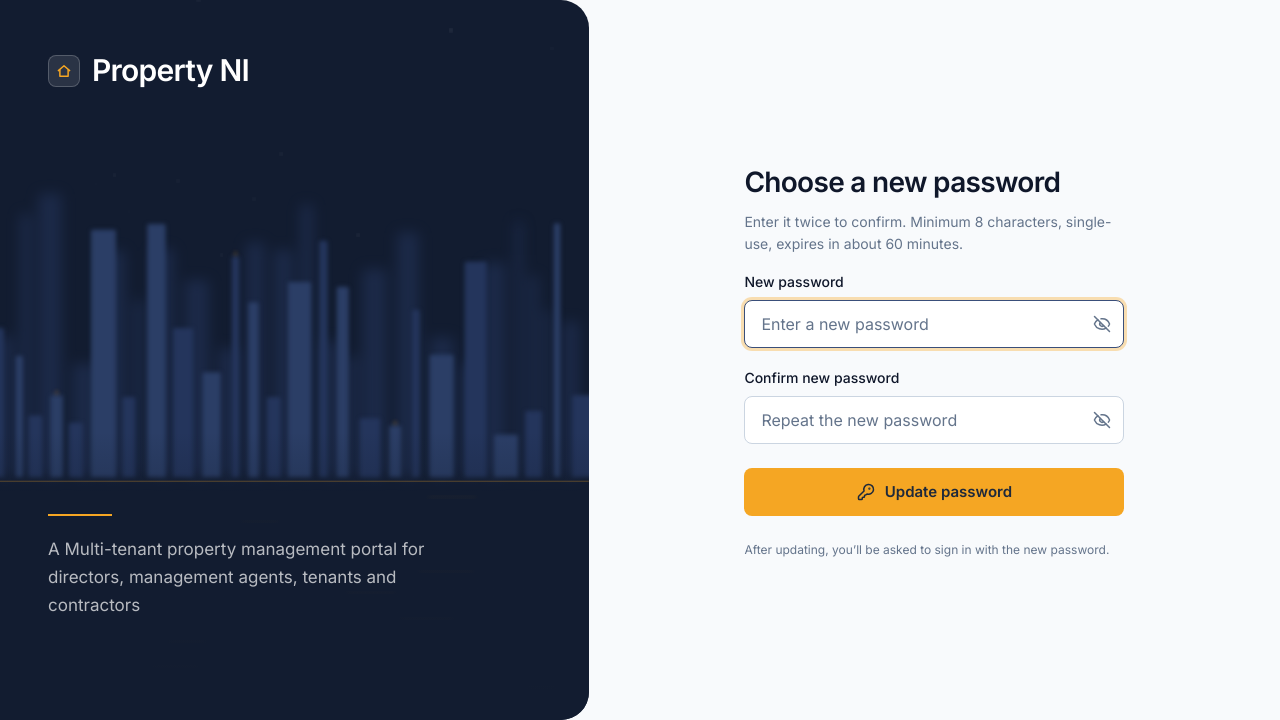
Test: /auth/reset-password page › short password (<8) blocks submit client-side with the length hint
In the password field labelled "New password": (934, 324) left=744, top=300, right=1124, bottom=348, type "short"
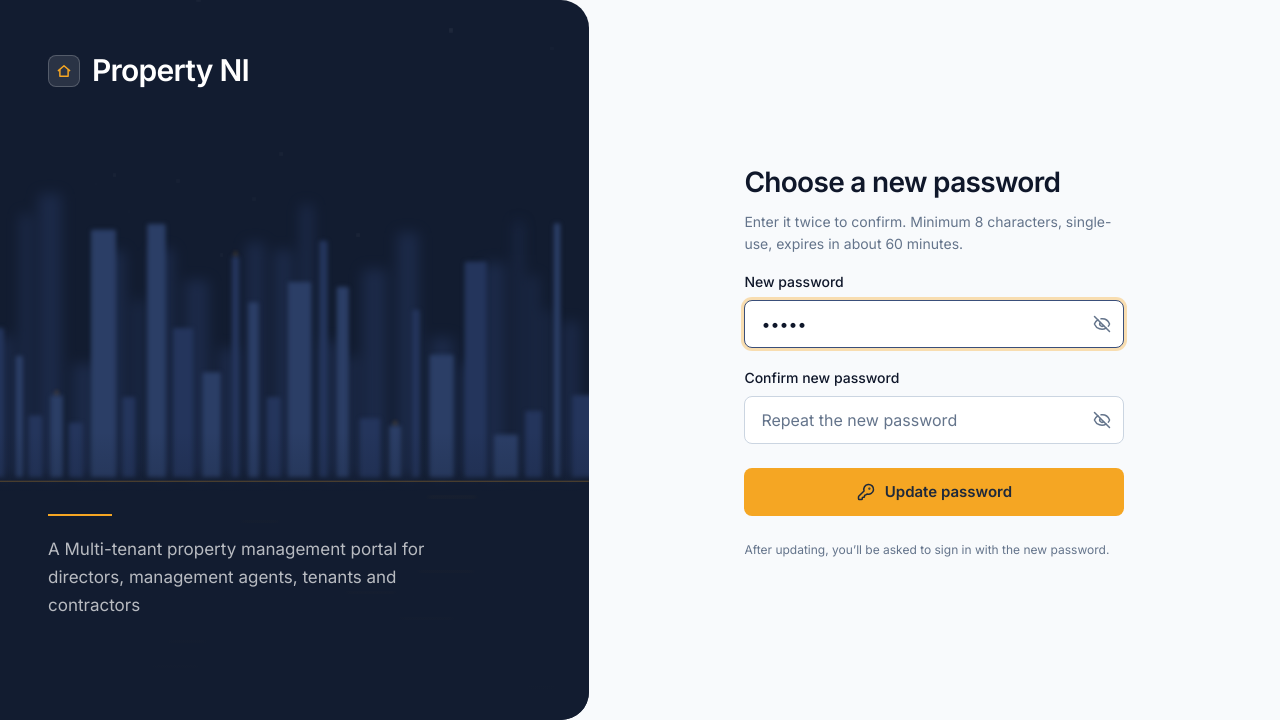
In the password field labelled "Confirm new password": (934, 420) left=744, top=396, right=1124, bottom=444, type "short"
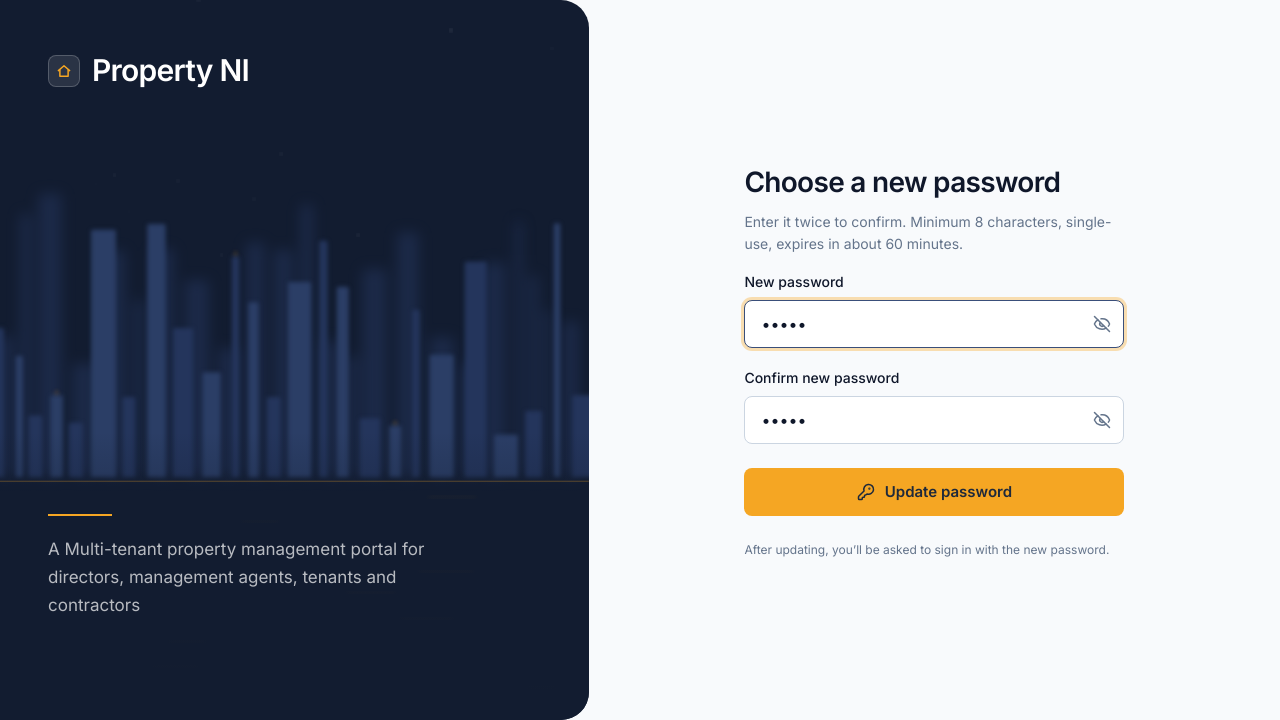
Click the button "Update password": (934, 492) left=744, top=468, right=1124, bottom=516
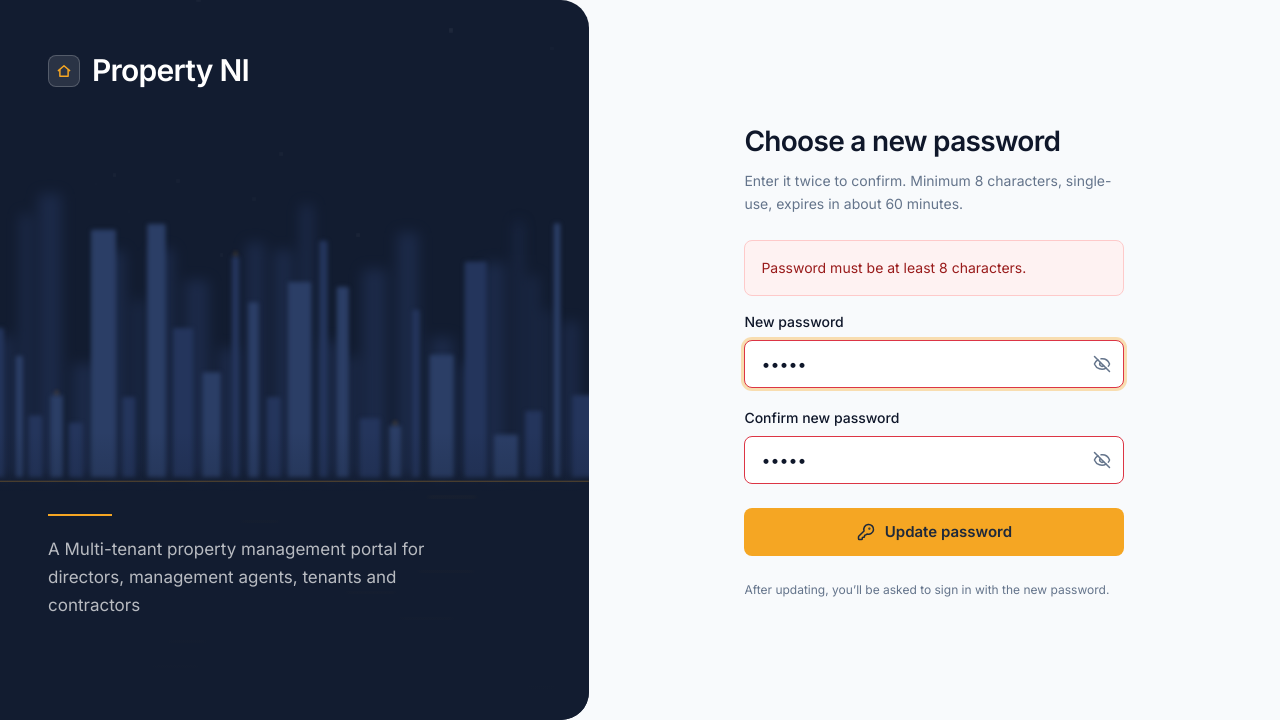
Expected: the message shows "at least 8 characters", left=761, top=259, right=1026, bottom=276
